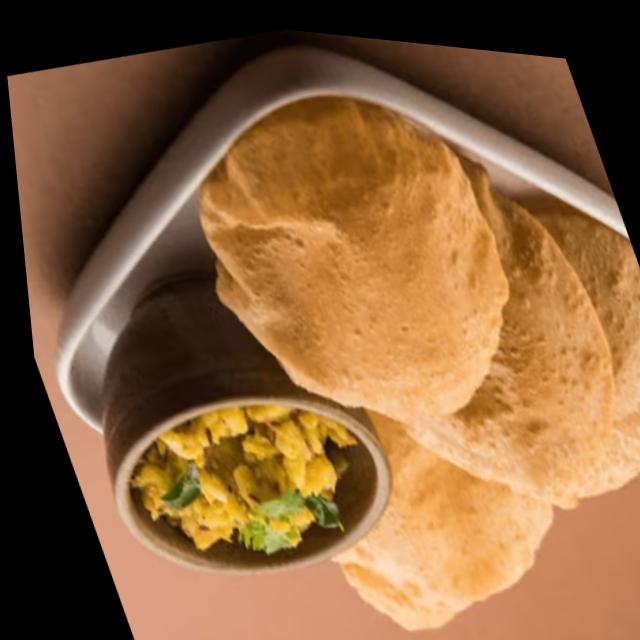CURRY: (136, 407, 338, 552)
POORI: (197, 96, 640, 629)
